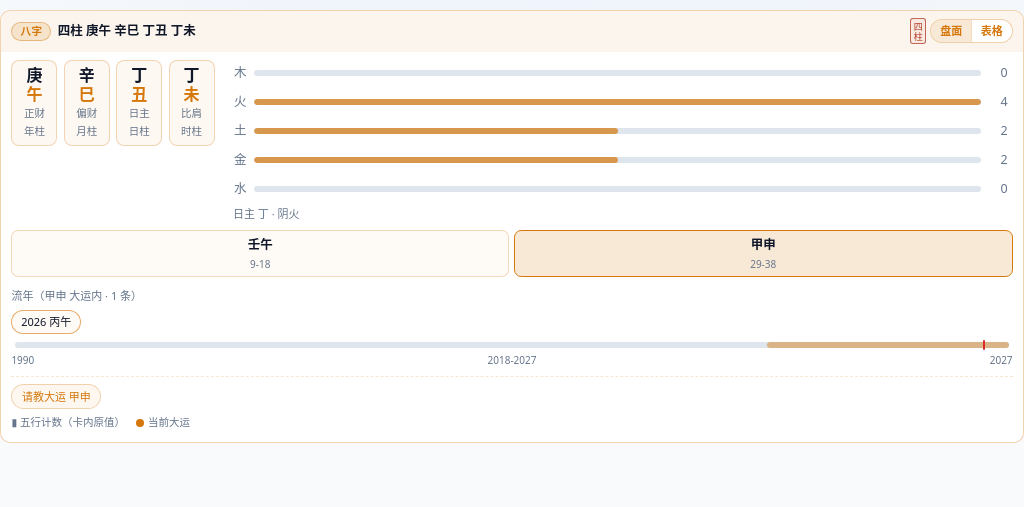
it: M63-A BaziBoard：神煞 / 柱间 / 小运 / 流月 › ⑤ 旧卡（无新字段）→ 新 UI 零渲染（神煞 / 柱间 / 小运 / 流月区块全无）
The image size is (1024, 507).
Click the button "2026 丙午" at (46, 322), box [11,310,81,334]
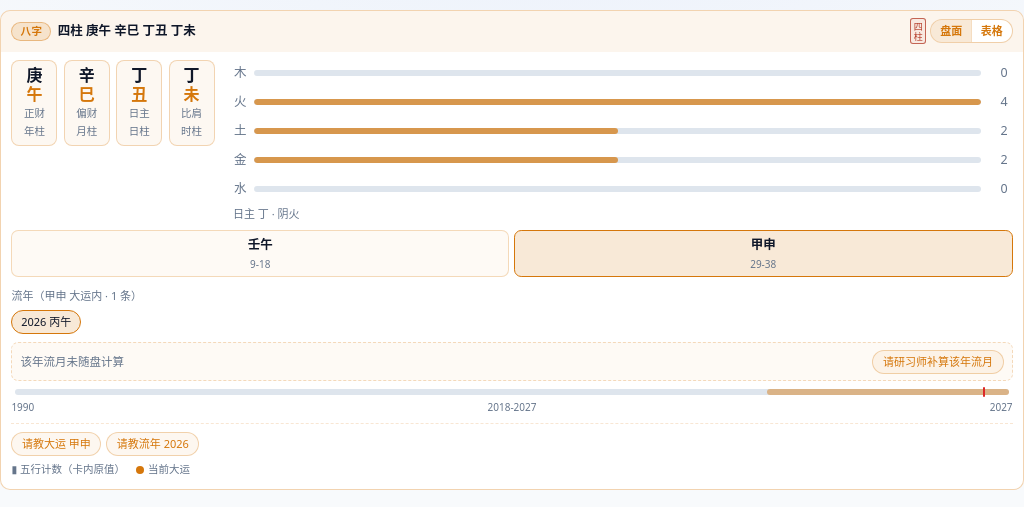
Expected: the element showing "该年流月未随盘计算 请研习师补算该年流月" is shown, [11,342,1013,381]
